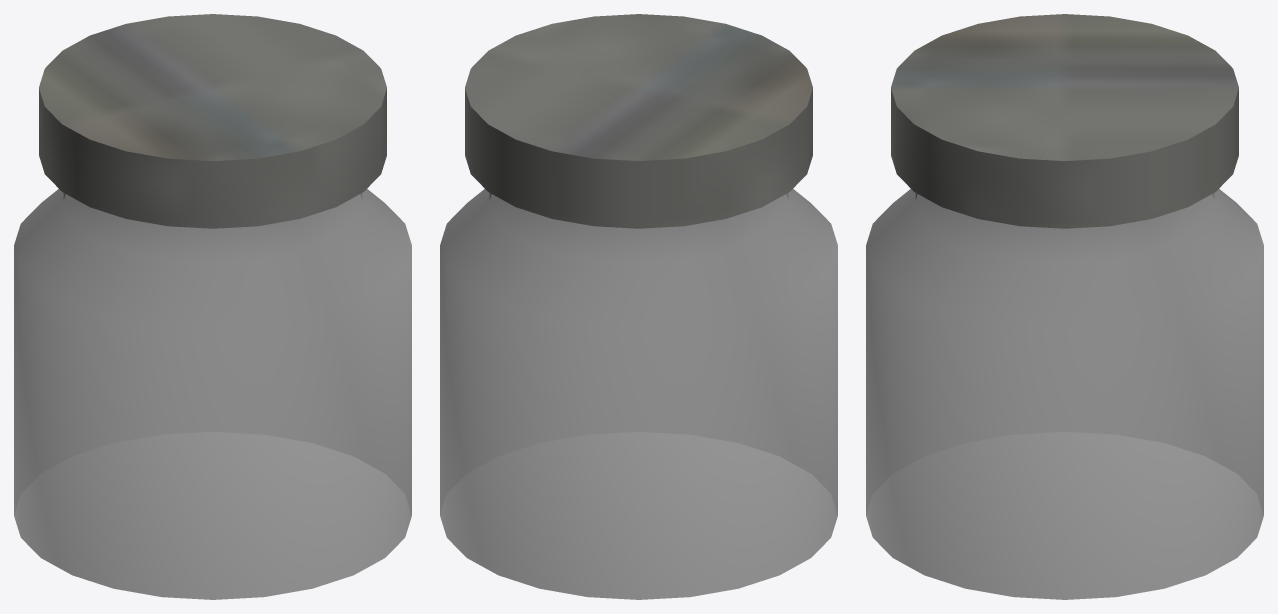
Rendered from bottle.glb.
3 views of the same model, side by side, from view 1: azimuth 30°, elevation 25°; view 2: azimuth 150°, elevation 25°; view 3: azimuth 270°, elevation 25° (orthographic).
Visible parts, largest first — view 1: C-syringe bottle; view 2: C-syringe bottle; view 3: C-syringe bottle.
Boxes of the visible parts, box(x1,y1,x2,y2) form: C-syringe bottle: box(14, 14, 411, 599); C-syringe bottle: box(440, 14, 837, 599); C-syringe bottle: box(866, 14, 1263, 599).
Bounding box in the file's own units: 0.08 × 0.095 × 0.08.
Materials: 3 (1 with a texture image).
